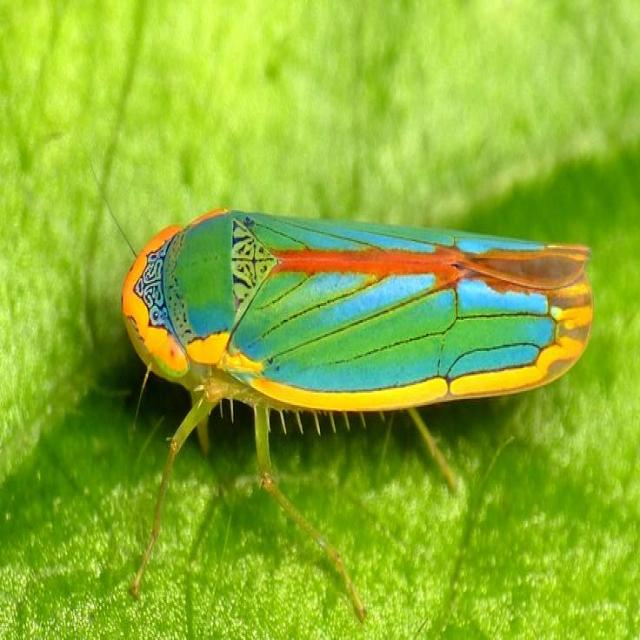Yechan: (88, 187, 619, 469)
